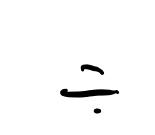div: (60, 64, 119, 114)
